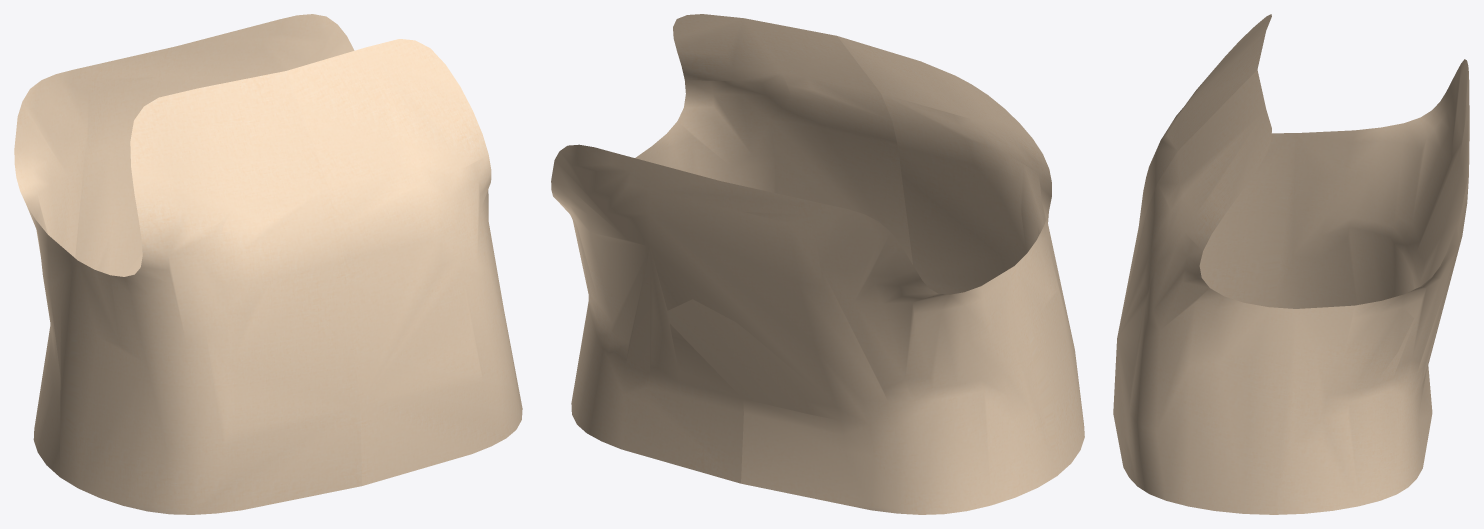
File: Costume03_weight_Shert.fbx
The picture shows the model from 3 angles, left to right: view 1: azimuth 30°, elevation 25°; view 2: azimuth 150°, elevation 25°; view 3: azimuth 270°, elevation 25°; orthographic projection. The views are drawn at different scales.
Parts seen in each view (by area): view 1: body_boy.007; view 2: body_boy.007; view 3: body_boy.007.
Part boxes in pixels (box(x1,y1,x2,y2)): body_boy.007: box(14, 14, 522, 514); body_boy.007: box(551, 14, 1084, 514); body_boy.007: box(1113, 14, 1469, 514).
Bounding box in the file's own units: 280 × 221 × 207.
